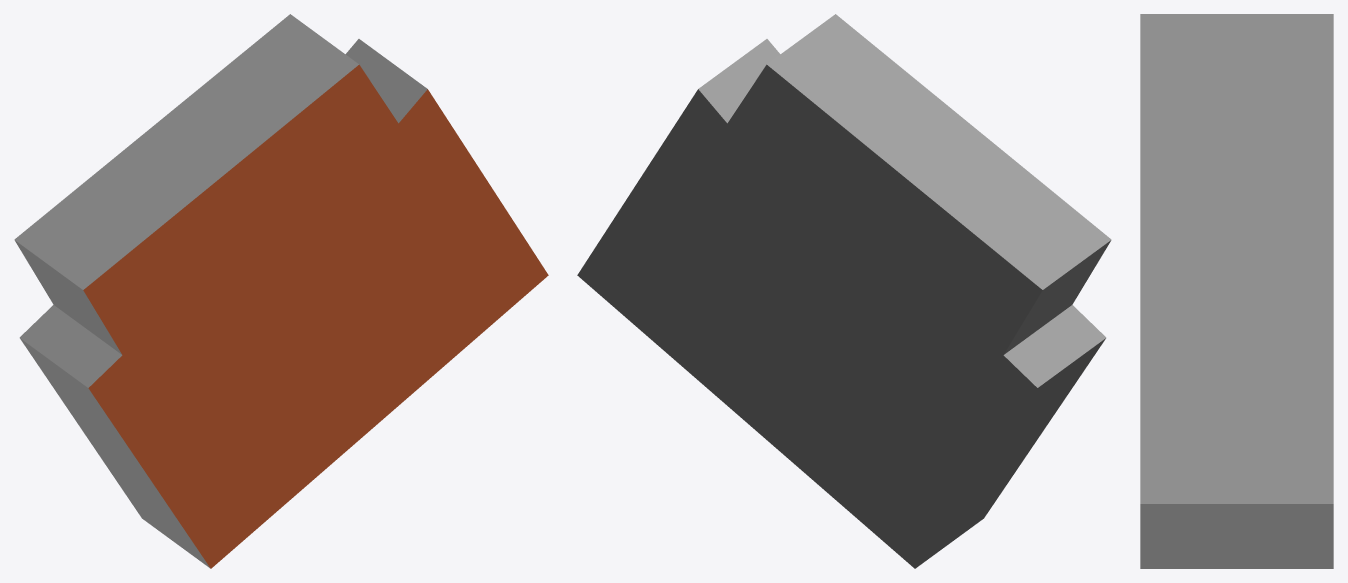
File: construction_3237_assumed_A_Casa_h6m.obj
The picture shows the model from 3 angles, left to right: view 1: azimuth 30°, elevation 25°; view 2: azimuth 150°, elevation 25°; view 3: azimuth 270°, elevation 25°; orthographic projection. The views are drawn at different scales.
Visible parts, largest first — view 1: construction_3237_assumed_A_Casa; view 2: construction_3237_assumed_A_Casa; view 3: construction_3237_assumed_A_Casa.
Boxes of the visible parts, box(x1,y1,x2,y2) form: construction_3237_assumed_A_Casa: box(14, 14, 548, 568); construction_3237_assumed_A_Casa: box(577, 14, 1111, 568); construction_3237_assumed_A_Casa: box(1140, 14, 1333, 568).
Bounding box in the file's own units: 23.38 × 22.48 × 6.
